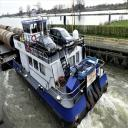tugboat: (12, 13, 111, 128)
